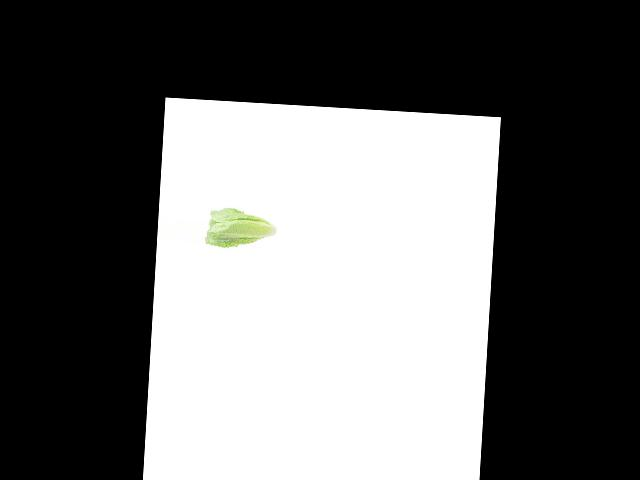lettuce: (203, 204, 278, 254)
